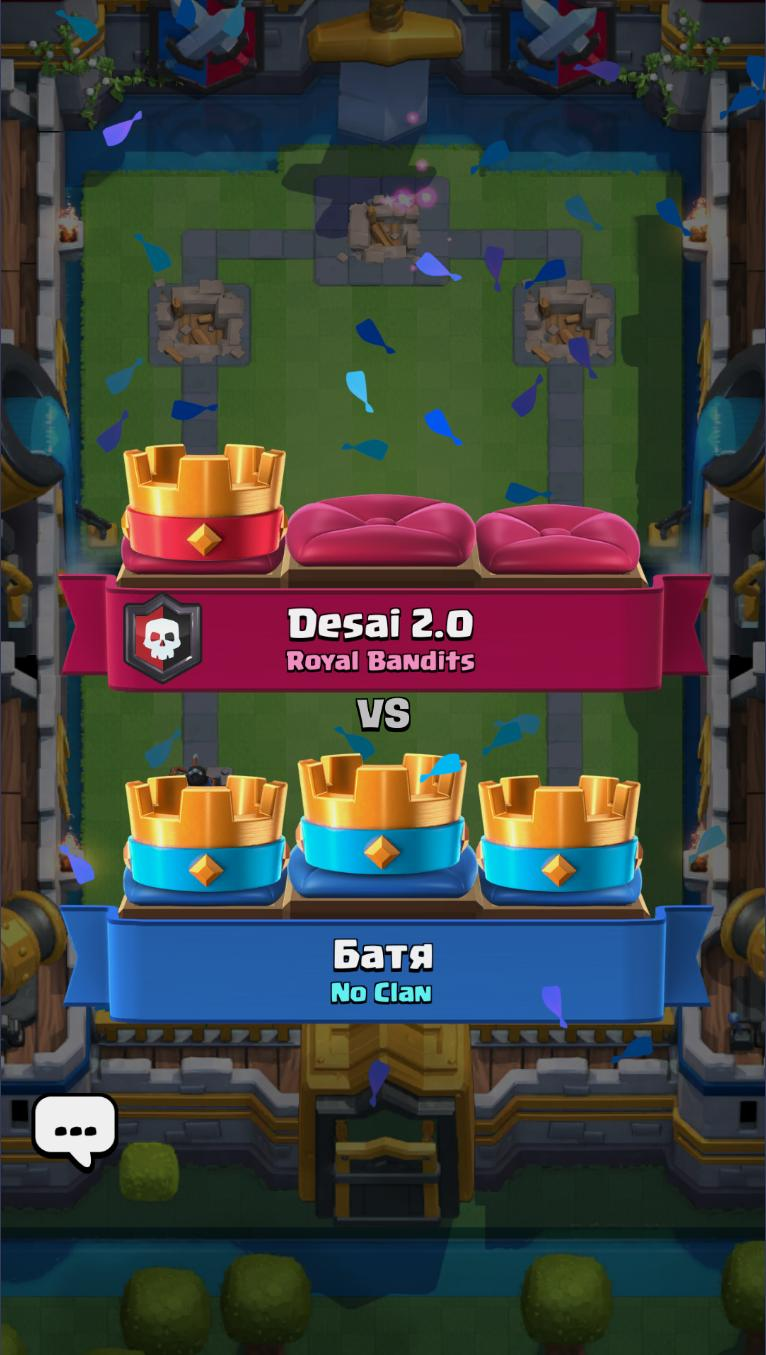EnemyTowerBrocken: (145, 278, 255, 371), (511, 278, 618, 369)
KingTowerBrocken: (311, 171, 454, 290)
Win_3-1: (57, 442, 716, 1025)
